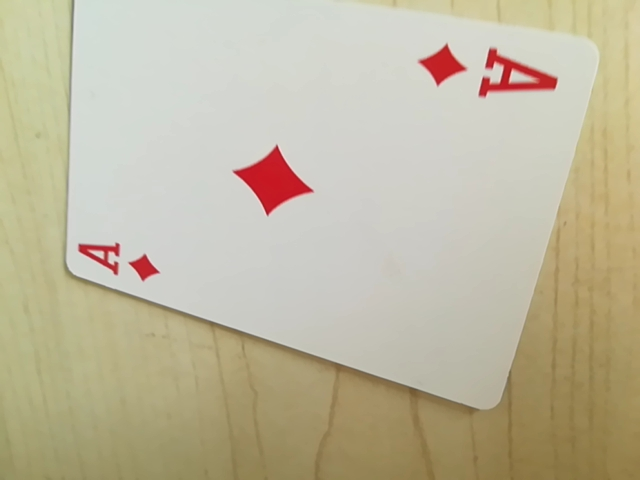fk a: (416, 35, 558, 106), (71, 231, 170, 287)
